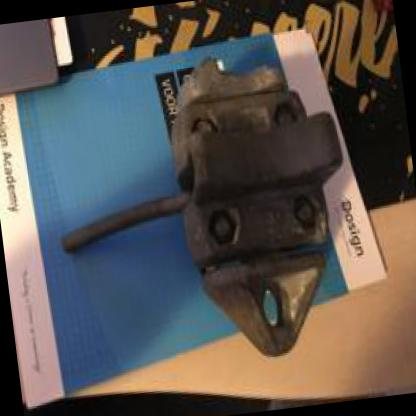Twistlock: (30, 39, 373, 397)
